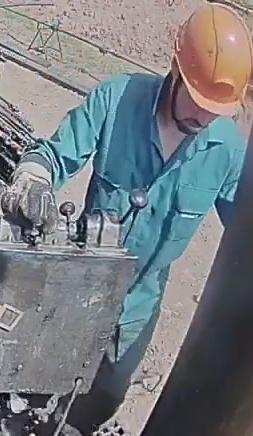gloves: (0, 159, 58, 236)
helmet: (173, 1, 252, 116)
vest: (78, 71, 246, 327)
